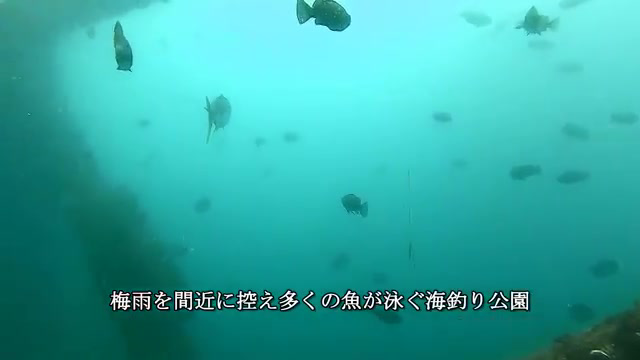smallfish: (292, 1, 356, 41), (105, 26, 147, 83), (515, 5, 567, 43), (331, 191, 373, 223), (200, 94, 233, 128)
